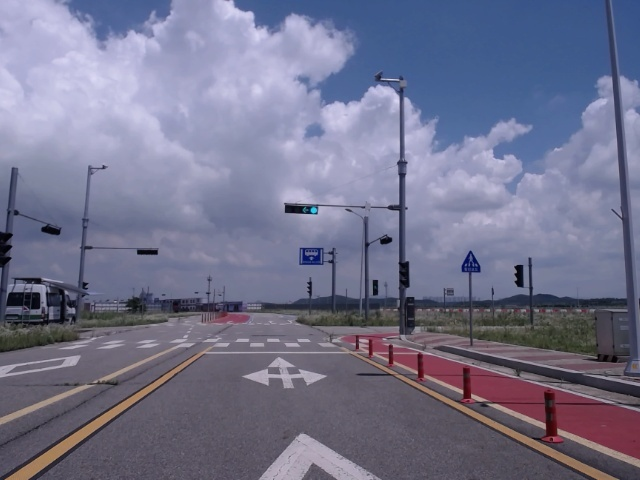all_green_4: (285, 202, 319, 213)
